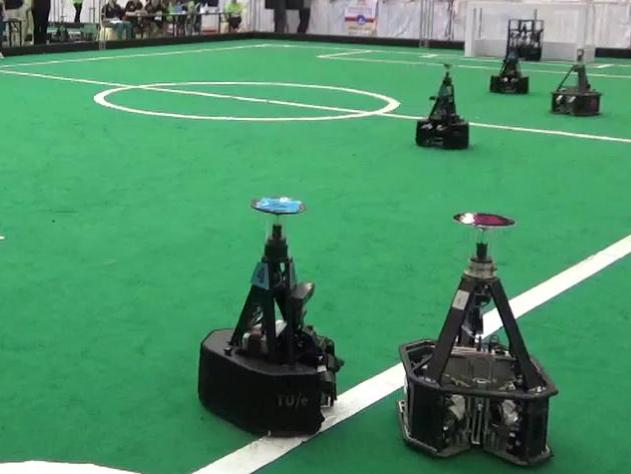robot: (396, 206, 562, 470), (196, 190, 344, 441), (413, 59, 473, 153), (550, 44, 601, 116), (487, 34, 532, 96)
